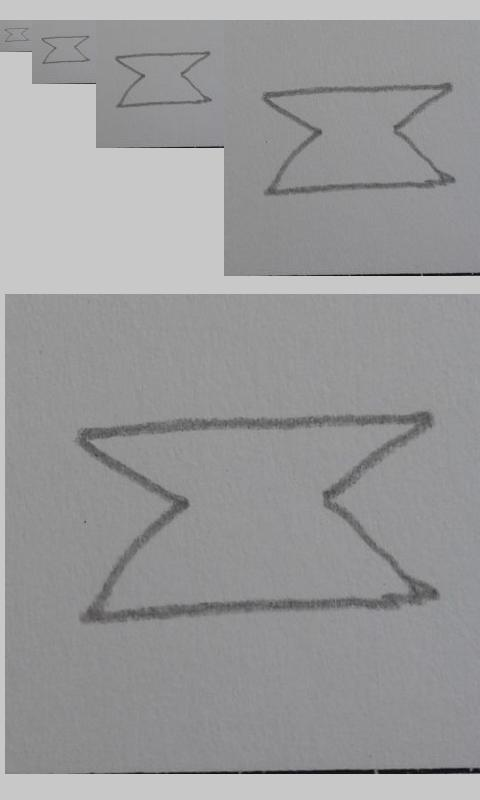edit_text: (70, 411, 444, 622), (263, 84, 454, 196), (113, 50, 213, 107), (40, 35, 90, 64), (3, 27, 29, 42)
